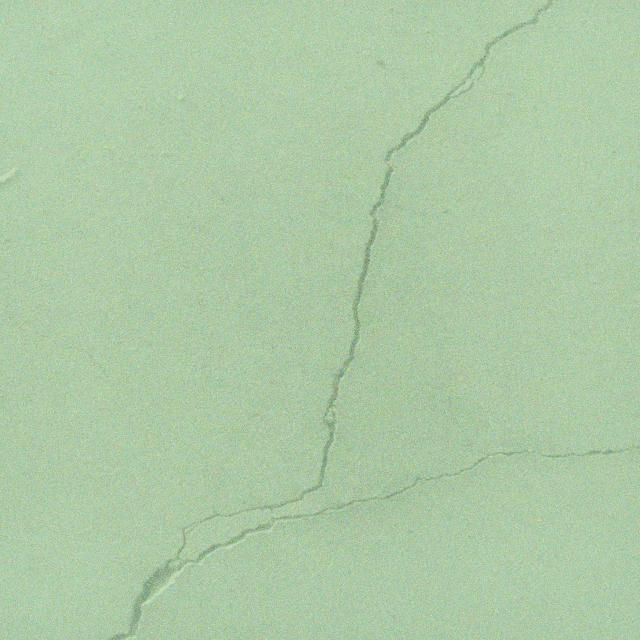crack: (106, 0, 640, 640), (0, 297, 117, 404)
